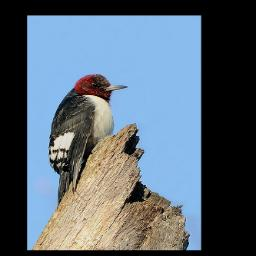Woodpecker: (48, 74, 129, 205)
